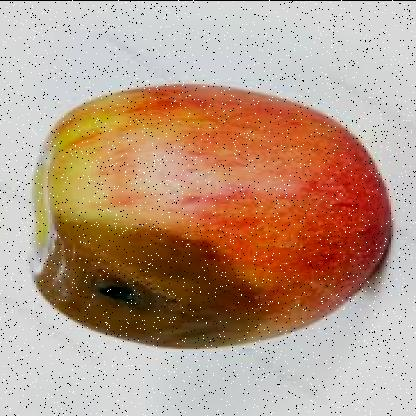damaged_apple: (35, 86, 387, 348)
